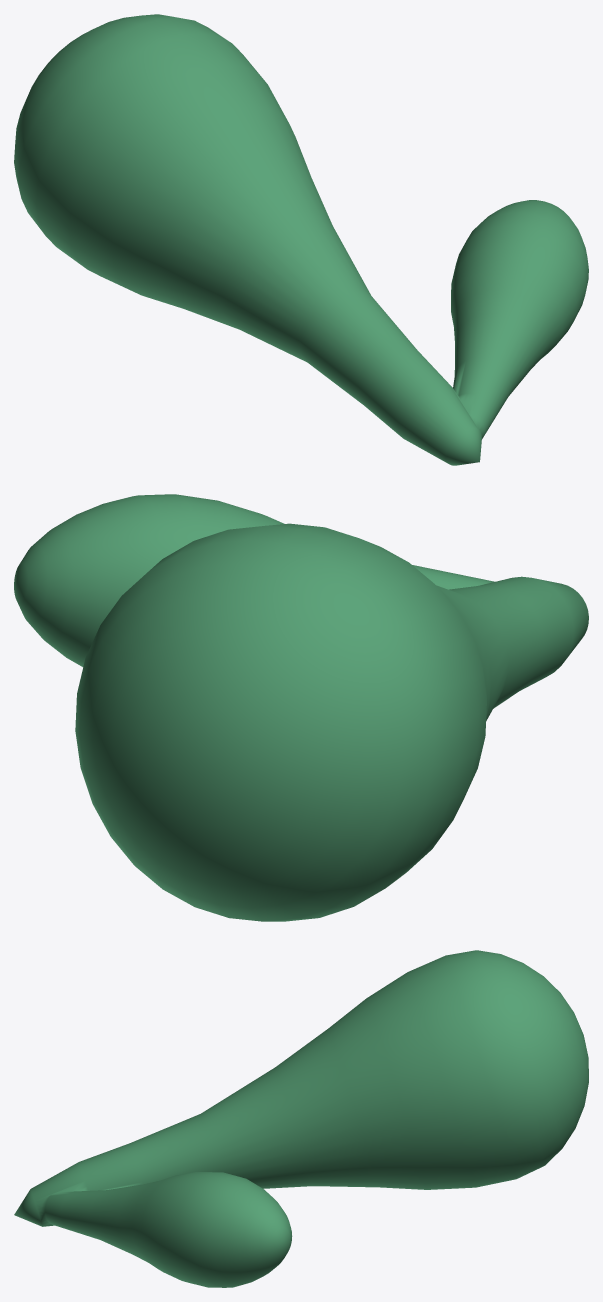
The model's file is Erbetta.fbx.
3 views of the same model, one above another, from view 1: azimuth 30°, elevation 25°; view 2: azimuth 150°, elevation 25°; view 3: azimuth 270°, elevation 25° (orthographic). The views are drawn at different scales.
Parts seen in each view (by area): view 1: erbetta; view 2: erbetta; view 3: erbetta.
Part boxes in pixels (<box>): erbetta: <box>14,14,588,465</box>; erbetta: <box>14,494,588,921</box>; erbetta: <box>14,950,588,1287</box>.
Size of the model in its own units: 9.47 by 5.96 by 13.11.
